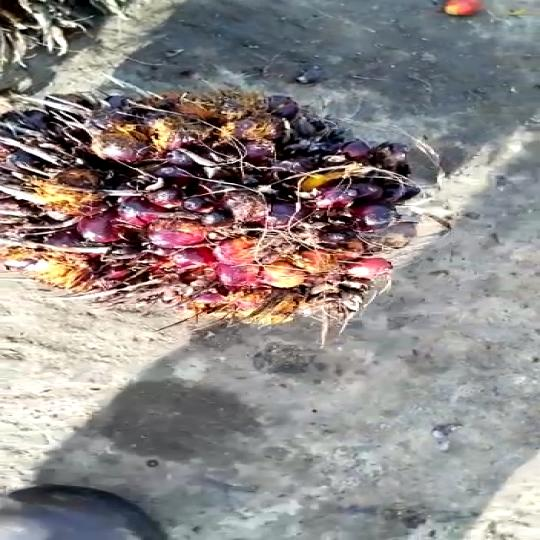masak: (0, 72, 434, 342)
